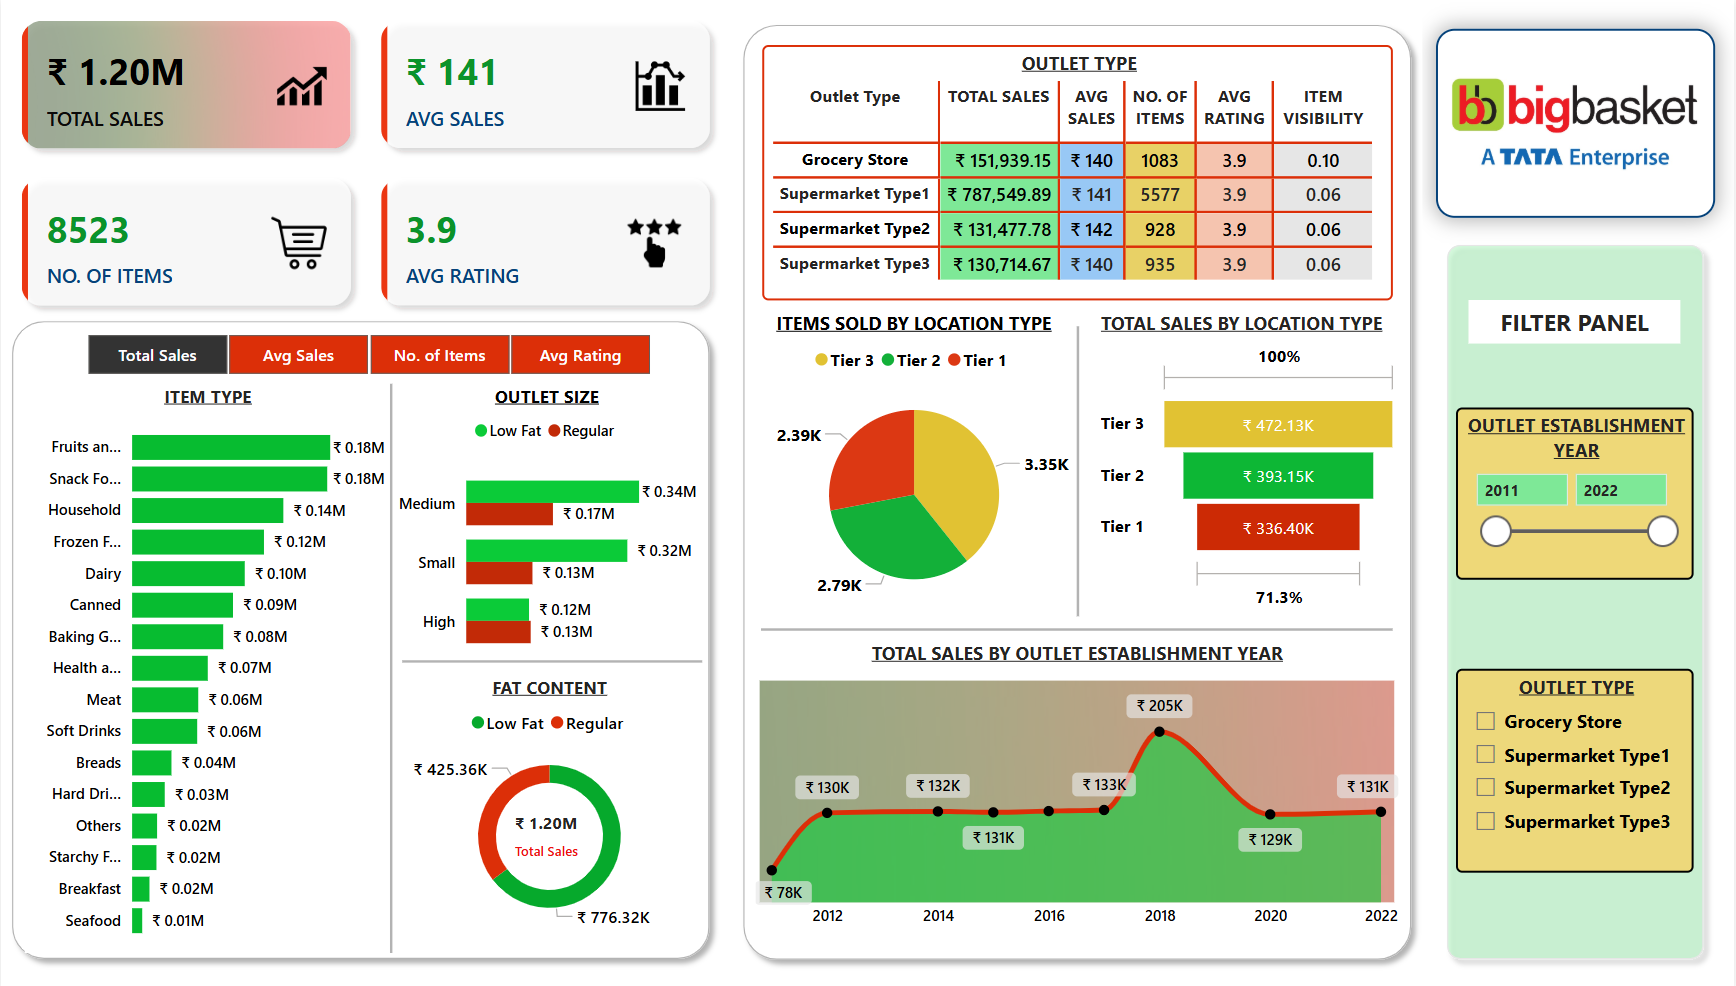

The page's visual inventory and layout, read from the dashboard file:
{"tool":"powerbi","page":{"name":"bigbasket dashboard","canvas":[1400,800],"ordinal":0},"visuals":[{"type":"cardVisual","fields":{"Data":["BlinkIT Grocery Data.Total Sales","BlinkIT Grocery Data.Avg Sales","BlinkIT Grocery Data.No. of Items","BlinkIT Grocery Data.Avg Rating"]},"box":[0,0,591.2,264.1],"z":0},{"type":"image","box":[1159.5,22.8,225.2,152.8],"z":1000},{"type":"shape","box":[0,250.7,581.8,533.5],"z":2000},{"type":"donutChart","title":"FAT CONTENT","fields":{"Y":["bigbasket grocery.Total Sales"],"Category":["bigbasket grocery.Item Fat Content"]},"box":[320.4,545.6,246.7,213.1],"z":3000},{"type":"slicer","fields":{"Values":["Metrics.Metrics"]},"box":[44.2,264.1,504,45.6],"z":4000},{"type":"card","fields":{"Values":["bigbasket grocery.Total Sales"]},"box":[410.2,651.5,61.7,45.6],"z":5000},{"type":"barChart","title":"ITEM TYPE","fields":{"Y":["bigbasket grocery.Total Sales"],"Category":["bigbasket grocery.Item Type"]},"box":[18.8,309.7,296.2,459.8],"z":6000},{"type":"clusteredBarChart","title":" OUTLET SIZE","fields":{"Y":["bigbasket grocery.Total Sales"],"Category":["bigbasket grocery.Outlet Size"],"Series":["bigbasket grocery.Item Fat Content"]},"box":[315,309.7,252,235.9],"z":7000},{"type":"shape","box":[309.7,309.7,10.7,459.8],"z":8000},{"type":"shape","box":[324.4,529.5,242.6,10.7],"z":9000},{"type":"shape","box":[591.2,10.7,557.6,773.5],"z":10000},{"type":"lineChart","title":"TOTAL SALES BY OUTLET ESTABLISHMENT YEAR","fields":{"Category":["bigbasket grocery.Outlet Establishment Year"],"Y":["bigbasket grocery.Total Sales"]},"box":[604.6,517.4,529.5,241.3],"z":11000},{"type":"donutChart","title":"ITEMS SOLD BY LOCATION TYPE","fields":{"Category":["bigbasket grocery.Outlet Location Type"],"Y":["CountNonNull(bigbasket grocery.Item Fat Content)"]},"box":[604.6,250.7,265.4,249.3],"z":12000},{"type":"funnel","title":"TOTAL SALES BY LOCATION TYPE","fields":{"Y":["bigbasket grocery.Total Sales"],"Category":["bigbasket grocery.Outlet Location Type"]},"box":[883.4,250.7,250.7,248],"z":13000},{"type":"shape","box":[847.2,264.1,45.6,234.6],"z":14000},{"type":"shape","box":[613.9,500,510.7,17.4],"z":15000},{"type":"pivotTable","title":"OUTLET TYPE","fields":{"Rows":["bigbasket grocery.Outlet Type"],"Values":["bigbasket grocery.Total Sales","bigbasket grocery.Avg Sales","bigbasket grocery.No. of Items","bigbasket grocery.Avg Rating","Avg(bigbasket grocery.Item Visibility)"]},"box":[615.3,36.2,509.4,206.4],"z":16000},{"type":"shape","box":[1159.5,189,225.2,595.2],"z":17000},{"type":"slicer","title":"OUTLET ESTABLISHMENT YEAR","fields":{"Values":["bigbasket grocery.Outlet Establishment Year"]},"box":[1175.6,329.8,191.7,139.4],"z":18000},{"type":"slicer","title":"OUTLET TYPE","fields":{"Values":["bigbasket grocery.Outlet Type"]},"box":[1175.6,540.2,191.7,164.9],"z":19000},{"type":"textbox","box":[1186.3,242.6,171.6,34.9],"z":20000}]}

Visuals, with their boxes in screenshot pixels (x1, y1, x2, y2), scaled from the page's 1400x800 canvas onto the 1736x986 screenshot:
cardVisual - BlinkIT Grocery Data.Total Sales x BlinkIT Grocery Data.Avg Sales: 0, 0, 733, 326
image: 1438, 28, 1717, 216
shape: 0, 309, 721, 967
"FAT CONTENT" donutChart: 397, 672, 703, 935
slicer - Metrics.Metrics: 55, 326, 680, 382
card - bigbasket grocery.Total Sales: 509, 803, 585, 859
"ITEM TYPE" barChart: 23, 382, 391, 948
" OUTLET SIZE" clusteredBarChart: 391, 382, 703, 672
shape: 384, 382, 397, 948
shape: 402, 653, 703, 666
shape: 733, 13, 1425, 967
"TOTAL SALES BY OUTLET ESTABLISHMENT YEAR" lineChart: 750, 638, 1406, 935
"ITEMS SOLD BY LOCATION TYPE" donutChart: 750, 309, 1079, 616
"TOTAL SALES BY LOCATION TYPE" funnel: 1095, 309, 1406, 615
shape: 1051, 326, 1107, 615
shape: 761, 616, 1395, 638
"OUTLET TYPE" pivotTable: 763, 45, 1395, 299
shape: 1438, 233, 1717, 967
"OUTLET ESTABLISHMENT YEAR" slicer: 1458, 406, 1695, 578
"OUTLET TYPE" slicer: 1458, 666, 1695, 869
textbox: 1471, 299, 1684, 342
